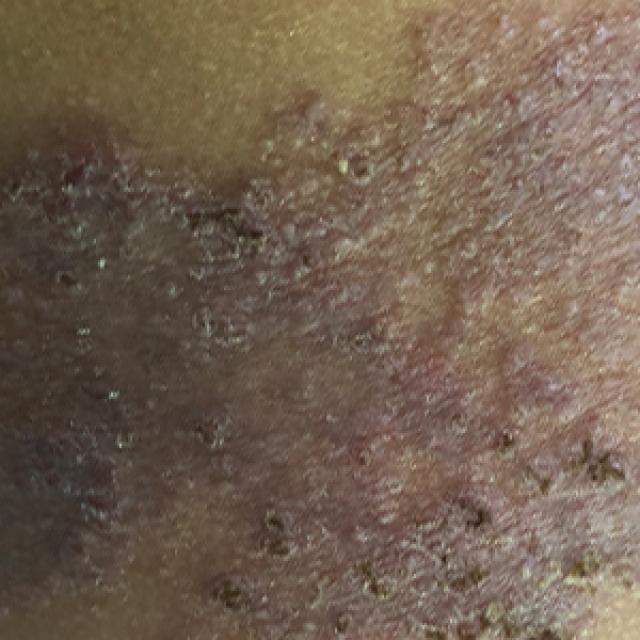Psoriasis: (0, 124, 638, 638)
